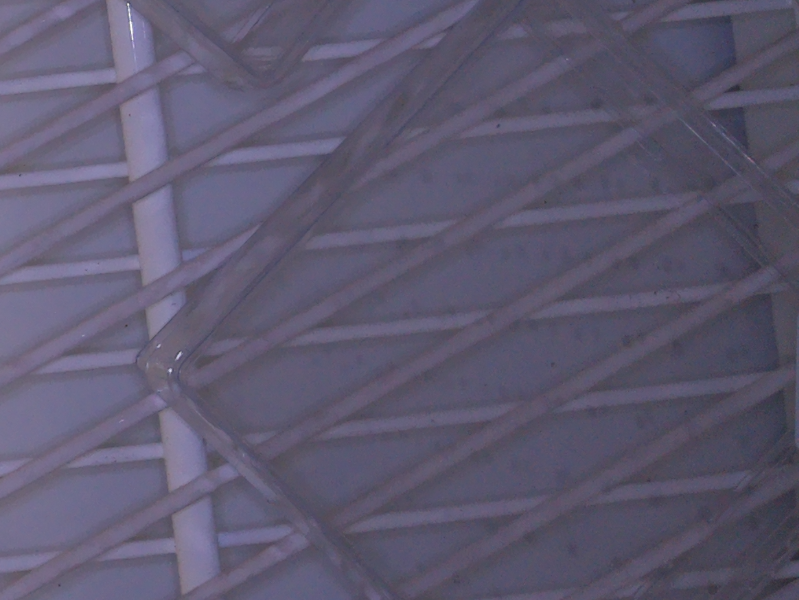plate: (135, 1, 799, 600), (124, 1, 351, 93)
